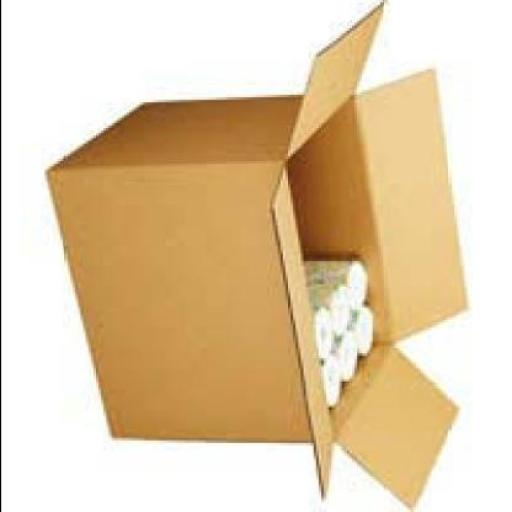cardboard: (48, 5, 471, 511), (46, 174, 317, 445), (356, 72, 471, 340), (272, 169, 340, 499), (342, 346, 459, 511), (49, 100, 307, 171), (290, 7, 386, 164)
